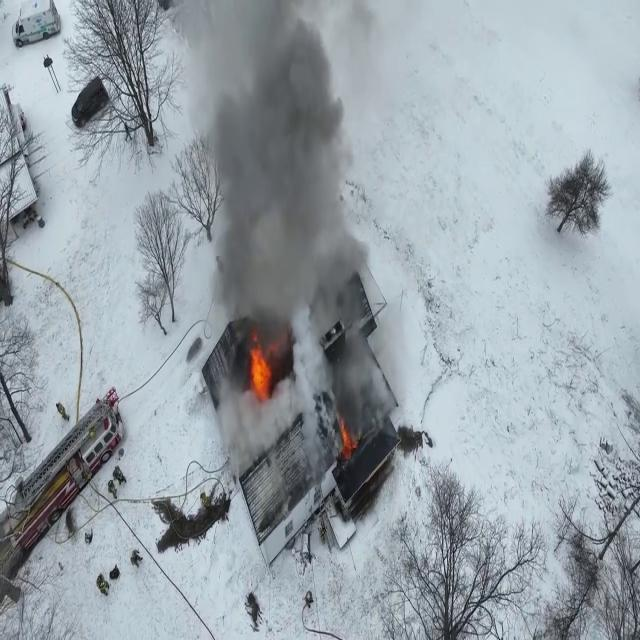Fire: (246, 334, 276, 406)
Smoke: (171, 1, 393, 316), (282, 304, 399, 448)
